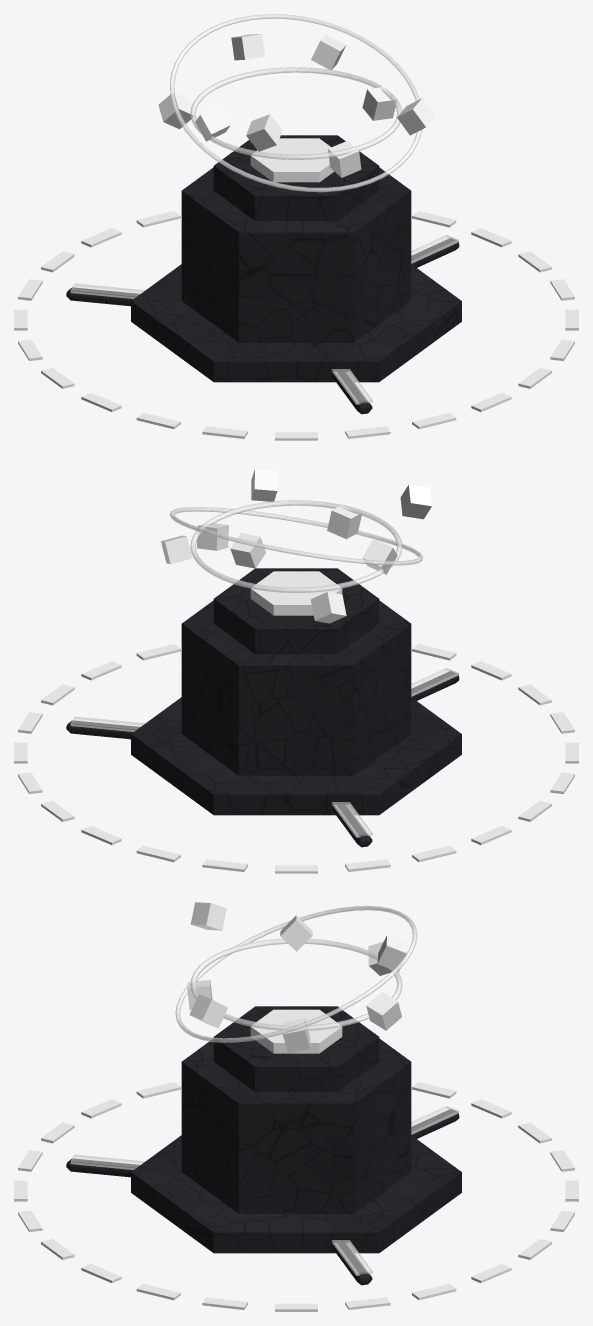
Rendered from node_data.fbx.
3 views of the same model, one above another, from view 1: azimuth 30°, elevation 25°; view 2: azimuth 150°, elevation 25°; view 3: azimuth 270°, elevation 25° (orthographic).
Visible parts, largest first — view 1: Hull, Glow, GlowSoft; view 2: Hull, Glow, GlowSoft; view 3: Hull, Glow, GlowSoft.
Boxes of the visible parts, x1,y1,x2,y2 form: Hull: [66, 135, 461, 414]; Glow: [14, 34, 578, 440]; GlowSoft: [70, 14, 458, 404]; Hull: [66, 568, 461, 847]; Glow: [14, 469, 578, 873]; GlowSoft: [70, 500, 458, 837]; Hull: [66, 1006, 461, 1285]; Glow: [14, 902, 578, 1311]; GlowSoft: [70, 905, 458, 1275].
Bounding box in the file's own units: 2.46 × 1.25 × 2.46.
